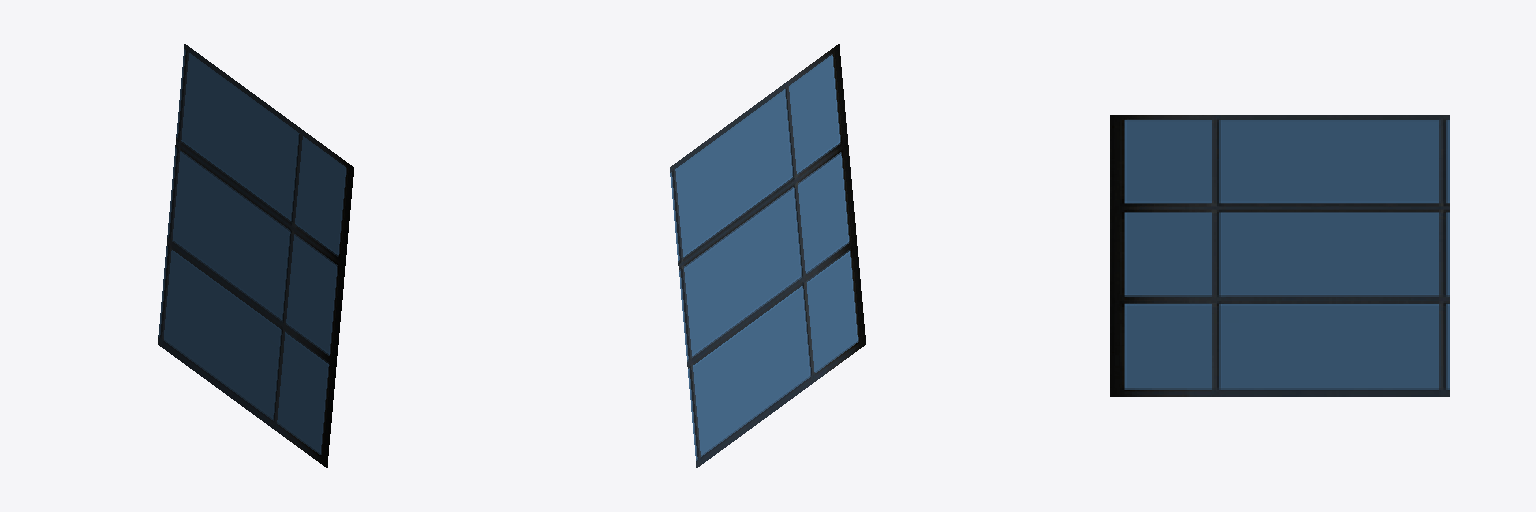
3 renders of one model, left to right at view 1: azimuth 30°, elevation 25°; view 2: azimuth 150°, elevation 25°; view 3: azimuth 270°, elevation 25°, orthographic.
Parts seen in each view (by area): view 1: data13; view 2: data13; view 3: data13.
Boxes of the visible parts, x1=… form: data13: x1=158, y1=44, x2=353, y2=467; data13: x1=670, y1=44, x2=865, y2=467; data13: x1=1110, y1=115, x2=1449, y2=396.
Size of the model in its own units: 0.1282 by 1.34 by 1.4.
Materials: 1 (1 with a texture image).